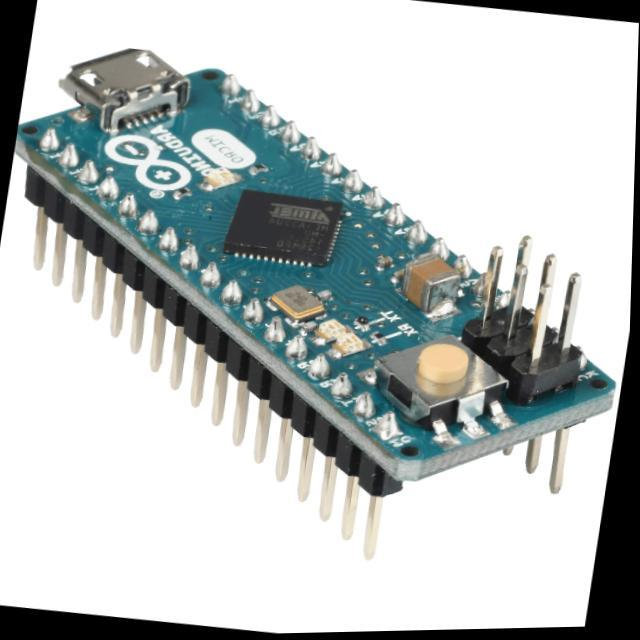Arduino-Micro: (17, 50, 614, 481)
